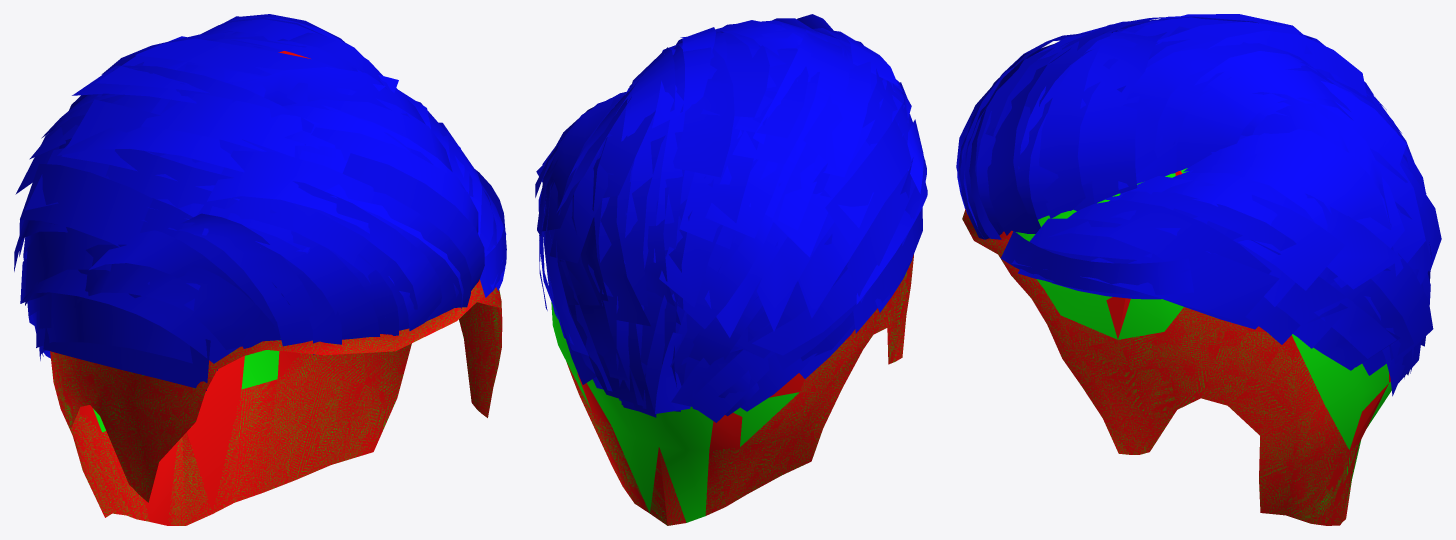
File: hair_011.obj
3 views of the same model, side by side, from view 1: azimuth 30°, elevation 25°; view 2: azimuth 150°, elevation 25°; view 3: azimuth 270°, elevation 25° (orthographic). The views are drawn at different scales.
Size of the model in its own units: 18.44 by 22.71 by 20.73.
